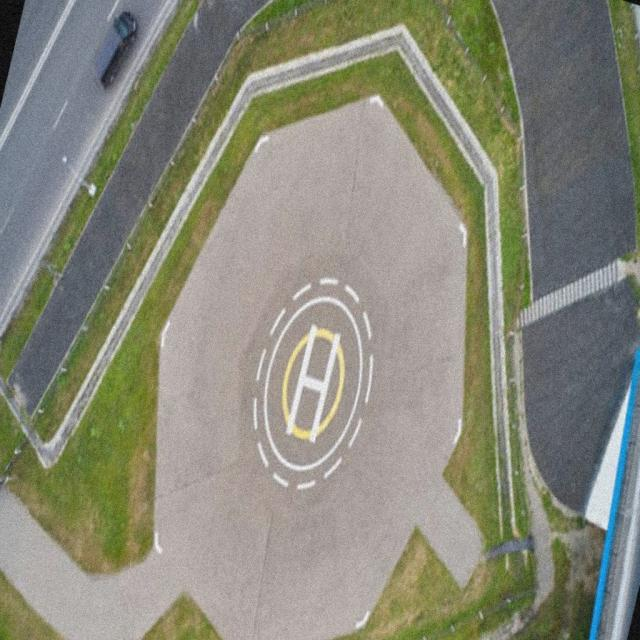helipad: (260, 294, 366, 474)
